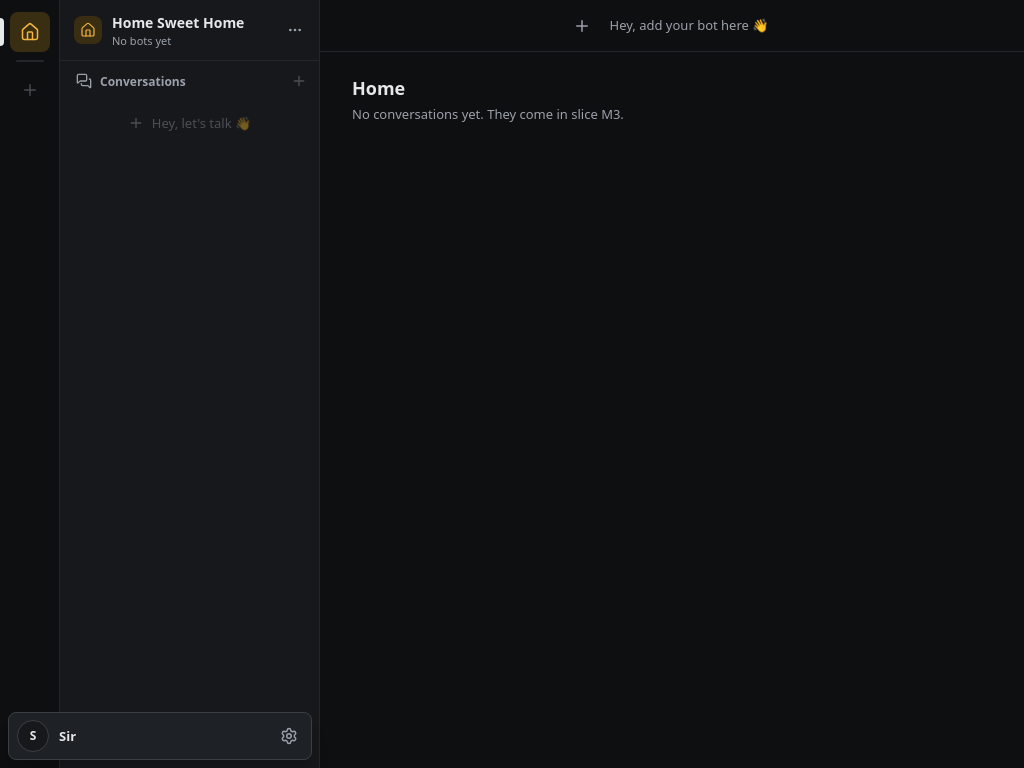
Test: user panel menu › closes after a page is chosen, and opens that page
Click the button "S Sir": [140, 736] box [13,716,267,756]
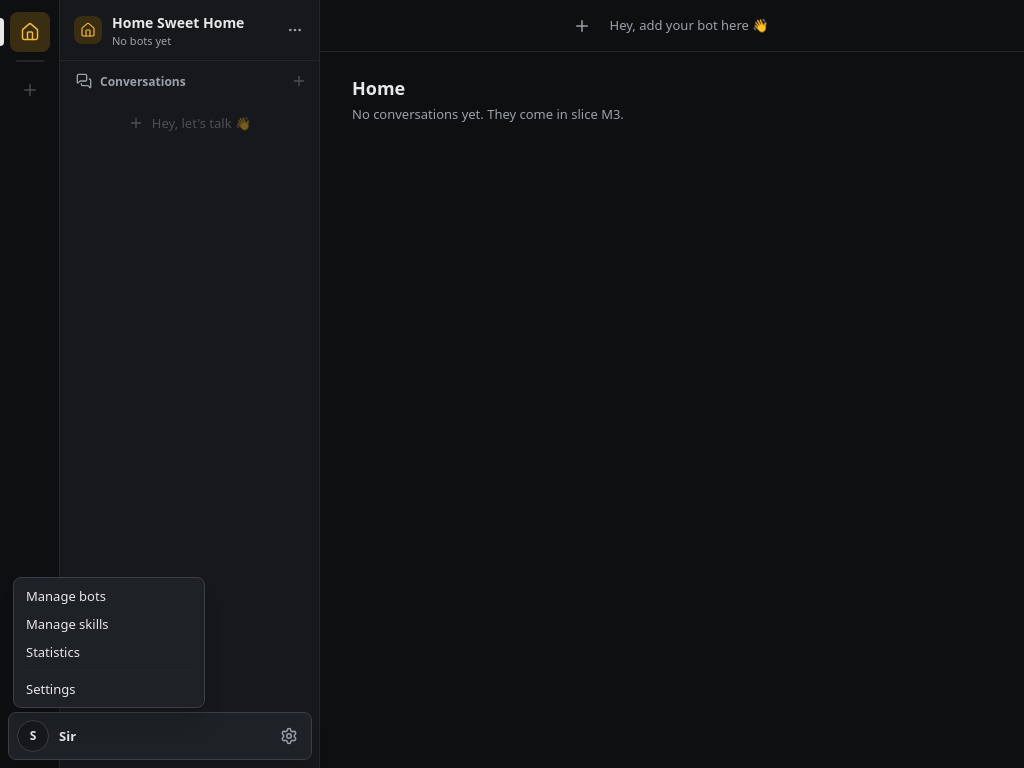
Click the menu item "Manage bots": [66, 596] box [26,587,106,605]
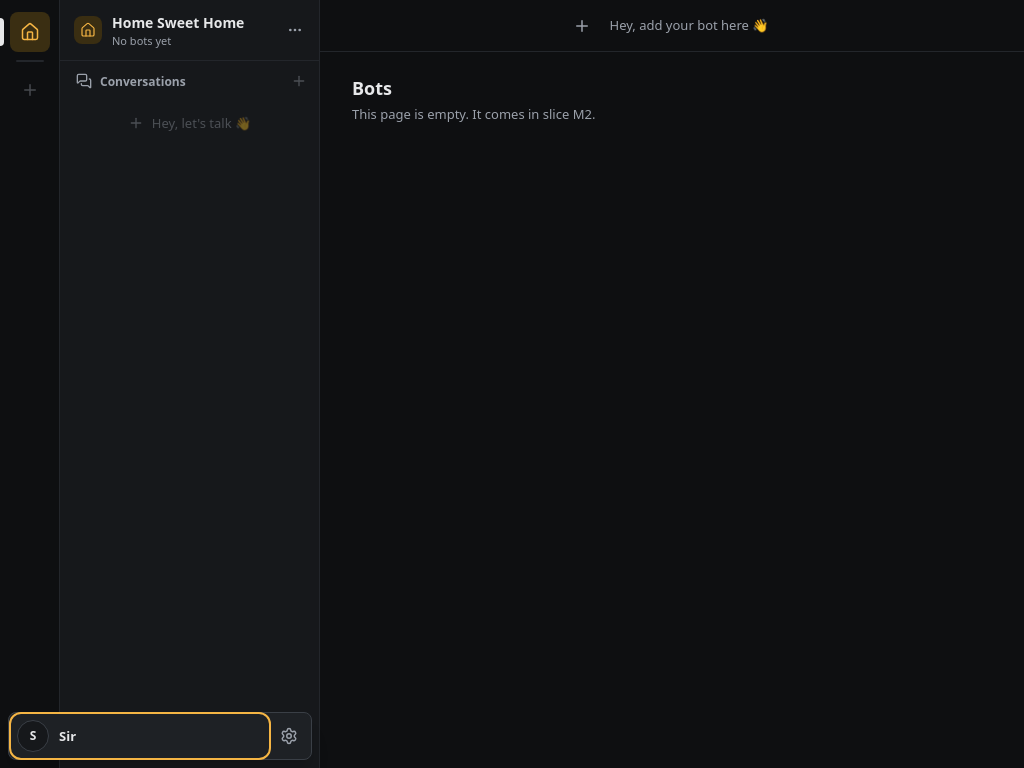
Expected: the menu is gone
